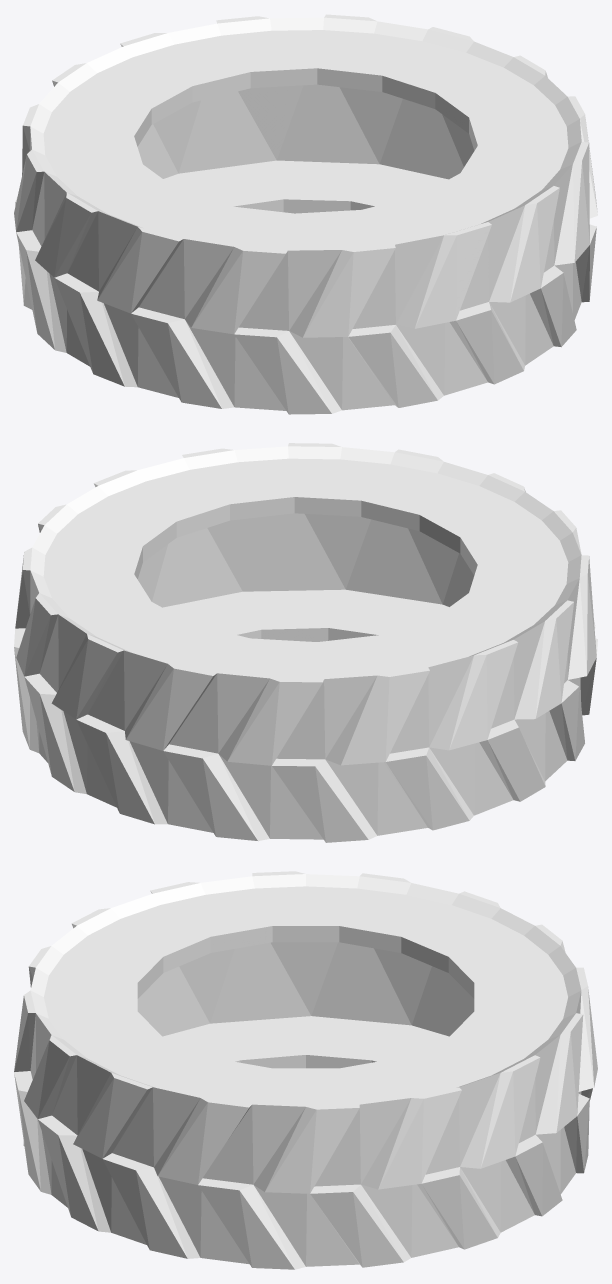
Rendered from Prop_Tractor_Tire_01.glb.
3 views of the same model, one above another, from view 1: azimuth 30°, elevation 25°; view 2: azimuth 150°, elevation 25°; view 3: azimuth 270°, elevation 25° (orthographic).
Visible parts, largest first — view 1: Prop_Tractor_Tire_01; view 2: Prop_Tractor_Tire_01; view 3: Prop_Tractor_Tire_01.
Boxes of the visible parts, x1=… form: Prop_Tractor_Tire_01: x1=14, y1=14, x2=597, y2=414; Prop_Tractor_Tire_01: x1=14, y1=443, x2=597, y2=842; Prop_Tractor_Tire_01: x1=14, y1=871, x2=597, y2=1269.
Bounding box in the file's own units: 1.72 × 0.52 × 1.72.
Materials: 1 (1 with a texture image).
